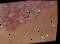plaque psoriasis: (0, 0, 60, 34)
